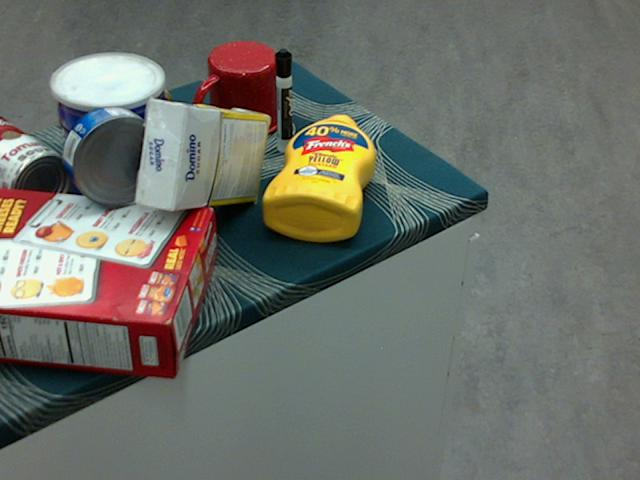cracker_box: (0, 187, 216, 375)
large_marker: (275, 48, 292, 153)
master_chef_can: (52, 54, 171, 230)
mug: (190, 41, 283, 139)
mustard_bottle: (262, 113, 376, 241)
potted_meat_can: (76, 87, 172, 169)
sugar_box: (135, 101, 268, 213)
tomato_soup_can: (0, 113, 70, 213)
tuna_fish_can: (62, 106, 166, 207)
